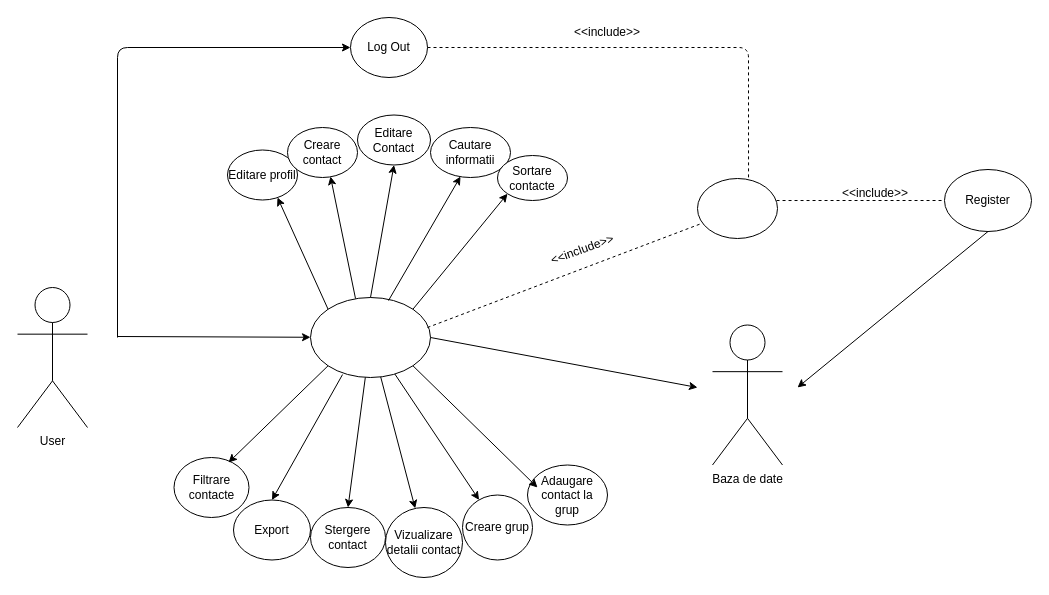
This 1049x595 diagram has some shape labels left out. The box of each missing label's shape, as (x1, y1, x2, y2) in pixels:
Actiuni: (310, 296, 430, 378)
Login: (696, 178, 778, 238)
